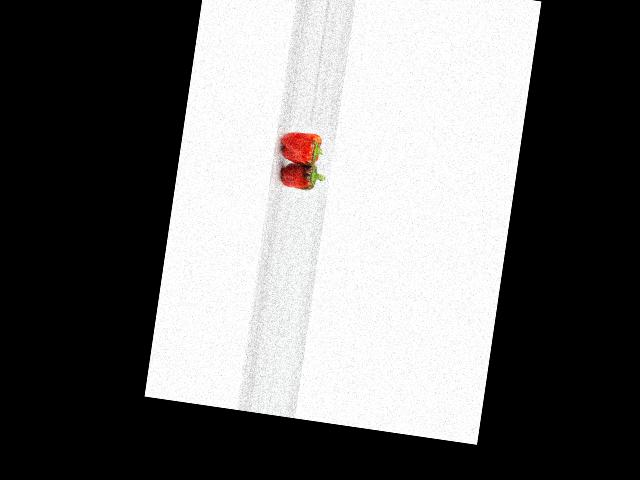bell_pepper: (278, 124, 328, 166)
